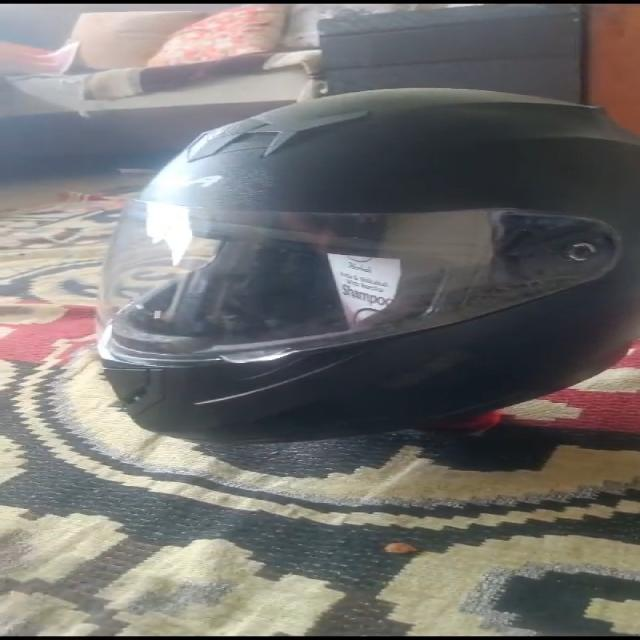Helmet: (95, 87, 640, 433)
